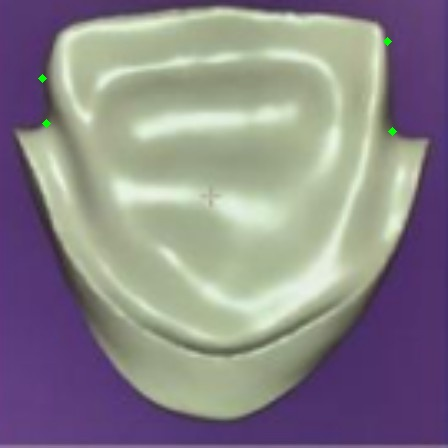coin_1: (392, 131, 412, 151)
coin_2: (387, 41, 407, 61)
coin_3: (46, 123, 66, 143)
coin_4: (42, 78, 62, 98)
